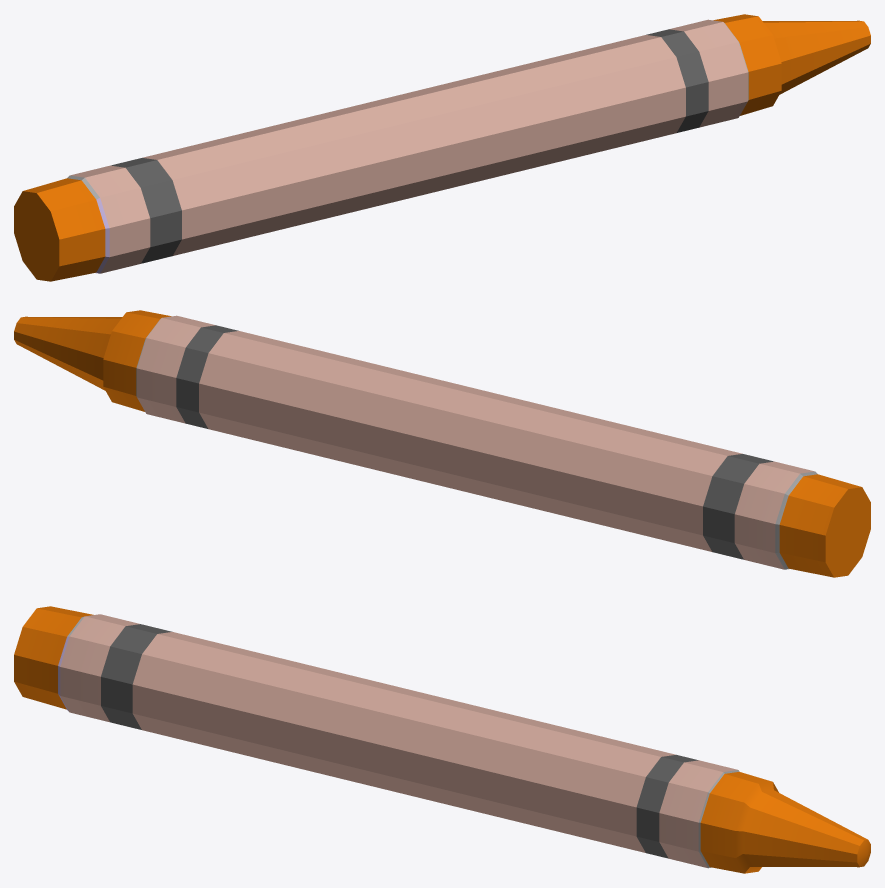
File: Crayon_Orange.fbx
The picture shows the model from 3 angles, top to bottom: view 1: azimuth 30°, elevation 25°; view 2: azimuth 150°, elevation 25°; view 3: azimuth 330°, elevation 25°; orthographic projection.
Visible parts, largest first — view 1: pCylinder12; view 2: pCylinder12; view 3: pCylinder12.
Boxes of the visible parts, x1,y1,x2,y2 form: pCylinder12: (14, 14, 870, 281); pCylinder12: (14, 310, 870, 577); pCylinder12: (14, 606, 870, 873).
Bounding box in the file's own units: 9.4 × 1.02 × 0.9667.
